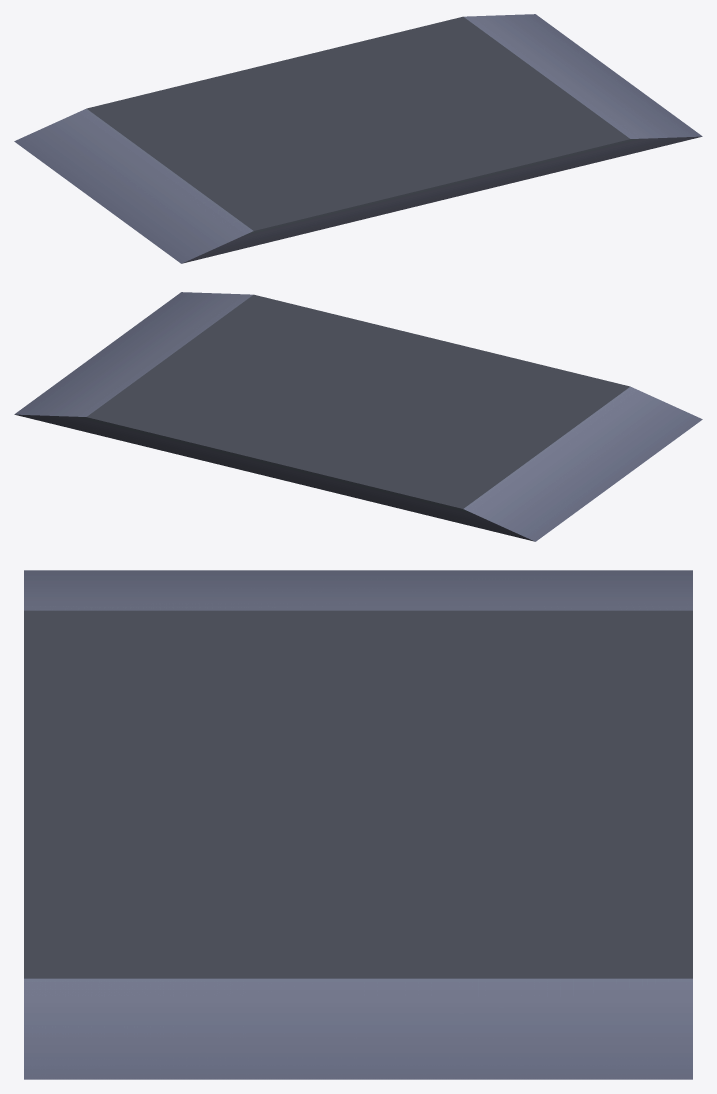
File: driveway-short.draco.glb
3 views of the same model, one above another, from view 1: azimuth 30°, elevation 25°; view 2: azimuth 150°, elevation 25°; view 3: azimuth 270°, elevation 25° (orthographic). The views are drawn at different scales.
Visible parts, largest first — view 1: driveway-short; view 2: driveway-short; view 3: driveway-short.
Part boxes in pixels (x1=…): driveway-short: x1=14, y1=14, x2=702, y2=263; driveway-short: x1=14, y1=292, x2=702, y2=541; driveway-short: x1=24, y1=570, x2=692, y2=1079.
Bounding box in the file's own units: 0.36 × 0.01 × 0.2.
Materials: 1 (1 with a texture image).
